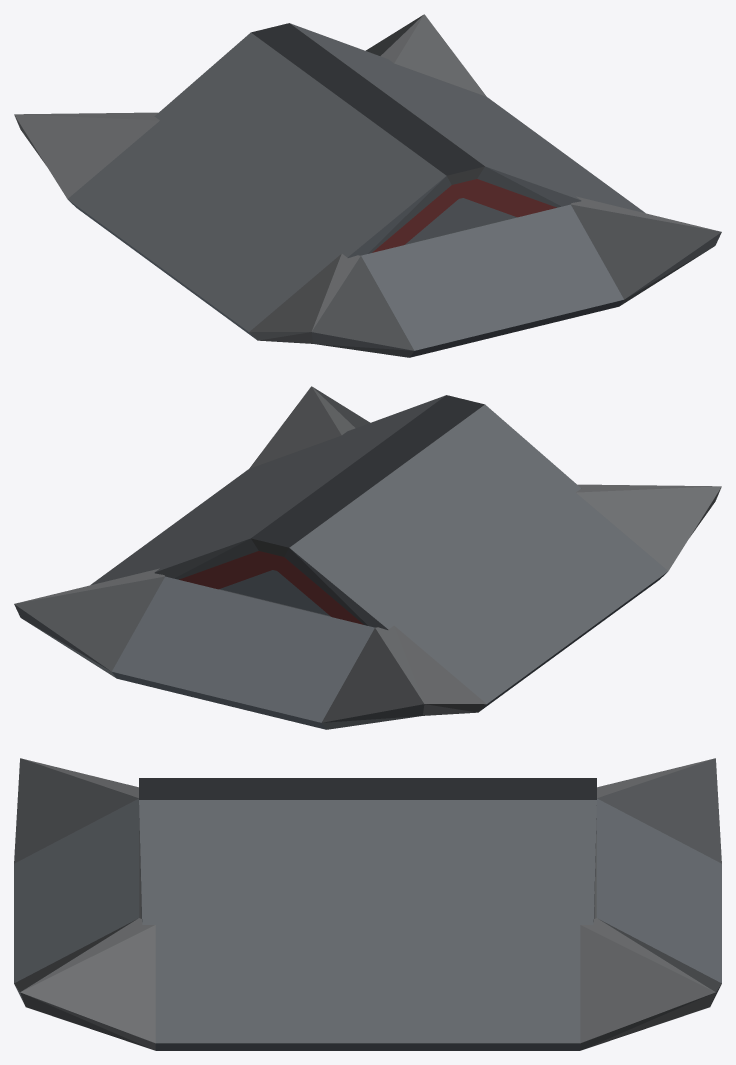
File: BuildingA-Sm_RoofLOD2.fbx
3 views of the same model, one above another, from view 1: azimuth 30°, elevation 25°; view 2: azimuth 150°, elevation 25°; view 3: azimuth 270°, elevation 25° (orthographic). The views are drawn at different scales.
Parts seen in each view (by area): view 1: BuildingA-Sm_RoofLOD2; view 2: BuildingA-Sm_RoofLOD2; view 3: BuildingA-Sm_RoofLOD2.
Boxes of the visible parts, bbox=[...] form: BuildingA-Sm_RoofLOD2: bbox=[14, 14, 721, 357]; BuildingA-Sm_RoofLOD2: bbox=[14, 386, 721, 729]; BuildingA-Sm_RoofLOD2: bbox=[14, 758, 721, 1050].
Bounding box in the file's own units: 1000 × 286 × 1250.
